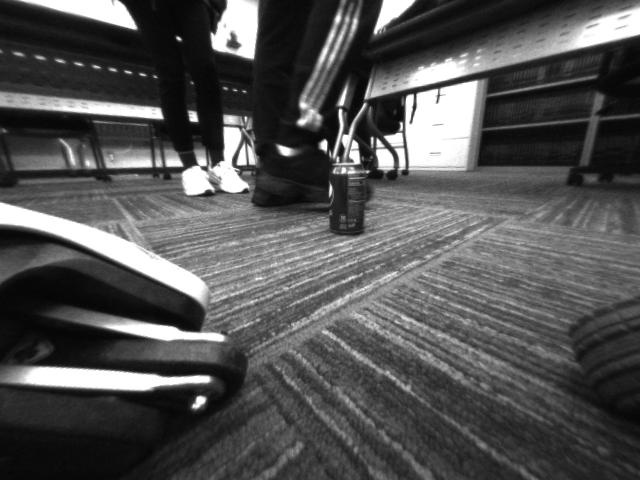can: (326, 162, 369, 240)
